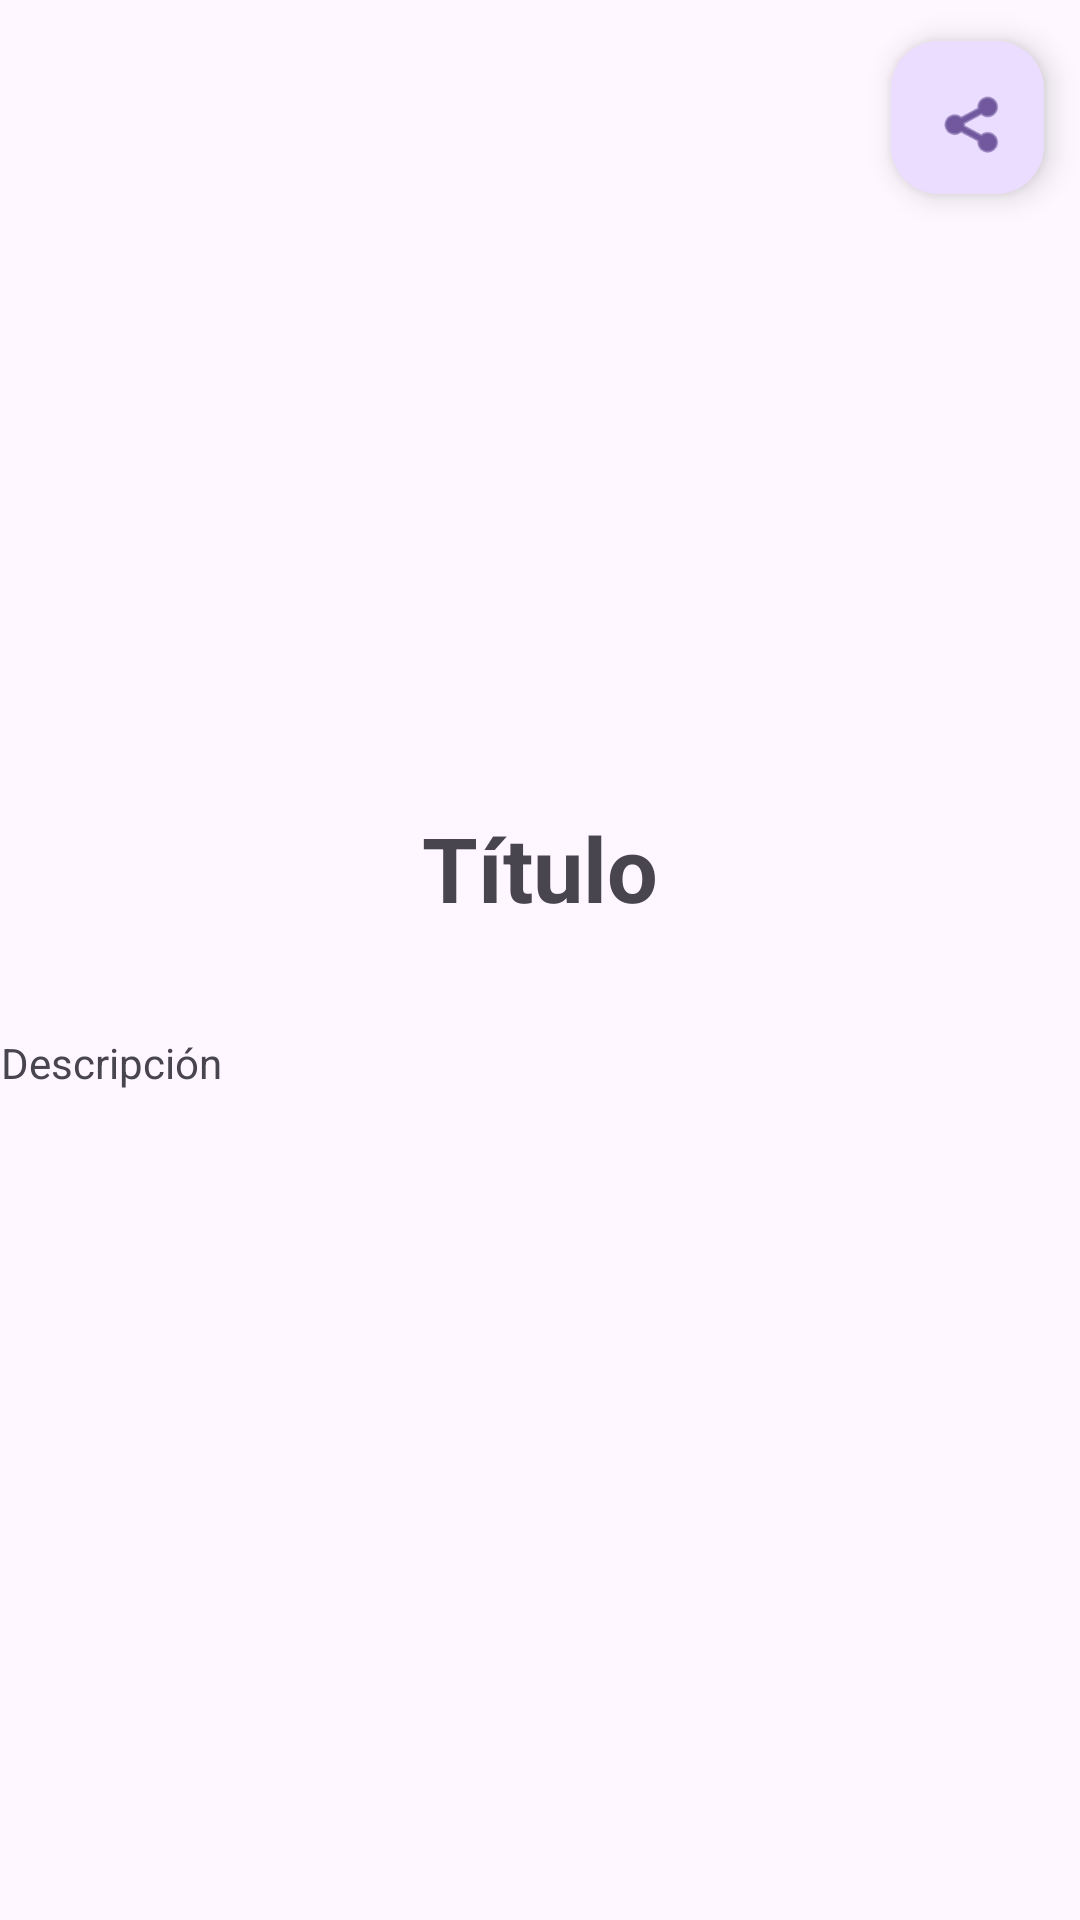

Icon bounding boxes for this 1080x1920 phone screenshot, format {"x1": x1, "y1": y1, "x2": x2, "y2": y2}:
Compartir imagen: {"x1": 891, "y1": 41, "x2": 1044, "y2": 194}
